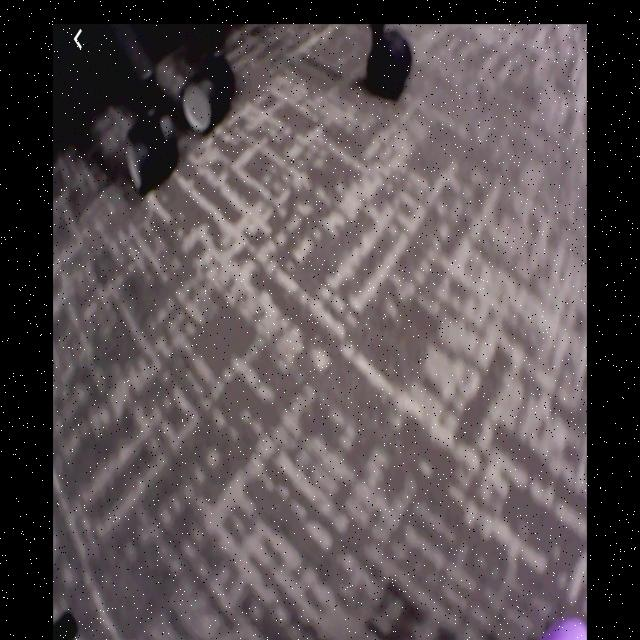ball: (540, 616, 589, 640)
